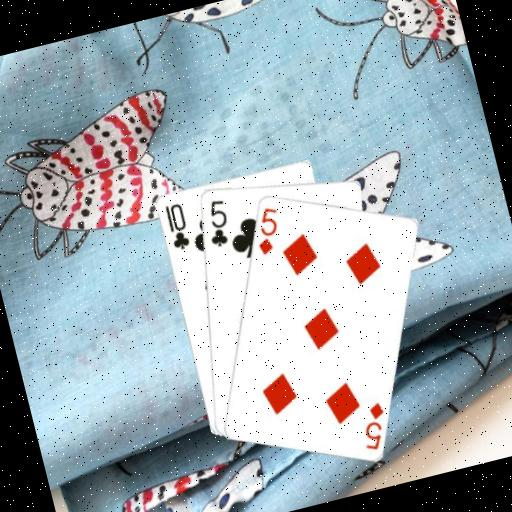10C: (160, 199, 194, 253)
5C: (198, 195, 236, 250)
5D: (246, 201, 289, 258), (352, 397, 395, 454)
